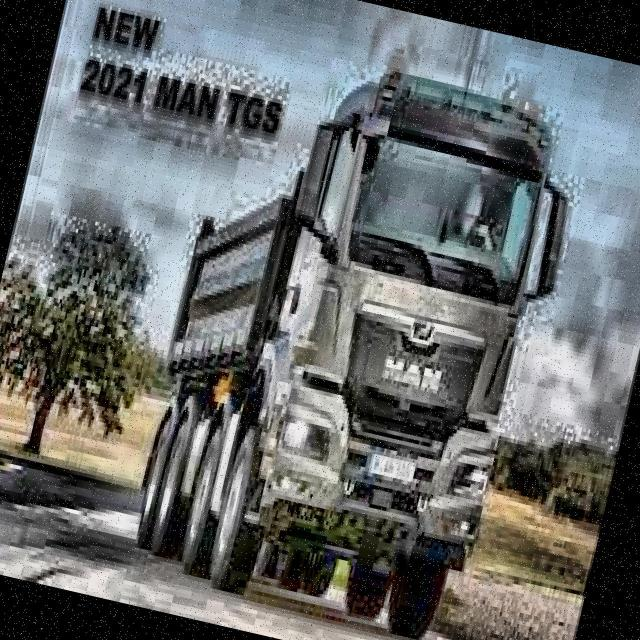dump_truck: (115, 34, 589, 640)
